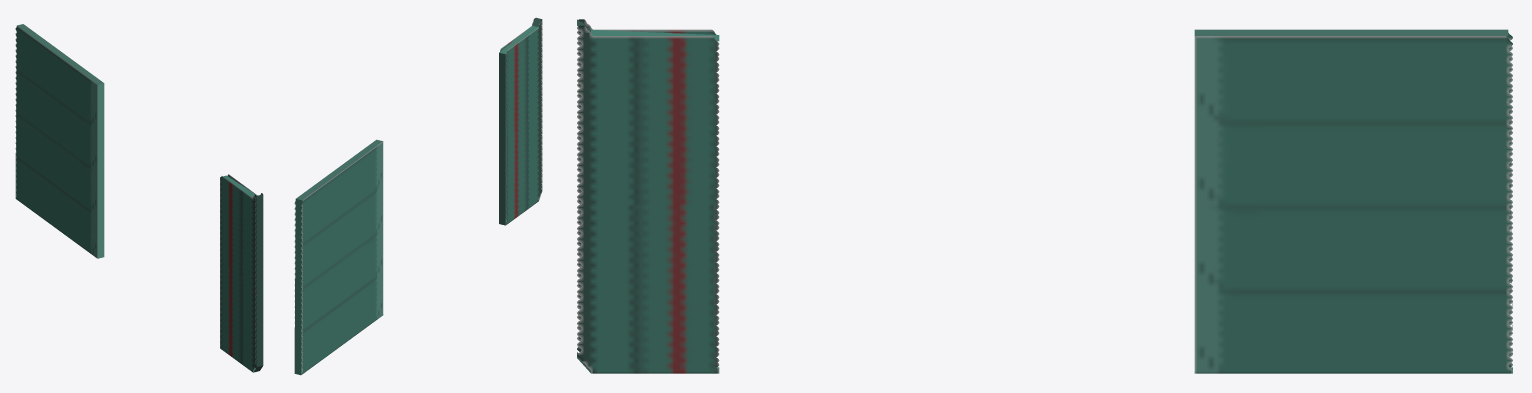
The model's file is pz_native_location_restaurant_diner_01_57_frame.obj.
3 views of the same model, side by side, from view 1: azimuth 30°, elevation 25°; view 2: azimuth 150°, elevation 25°; view 3: azimuth 270°, elevation 25° (orthographic). The views are drawn at different scales.
Visible parts, largest first — view 1: pz_native_location_restaurant_diner_01_57_frame; view 2: pz_native_location_restaurant_diner_01_57_frame; view 3: pz_native_location_restaurant_diner_01_57_frame.
Boxes of the visible parts, x1=… form: pz_native_location_restaurant_diner_01_57_frame: x1=15, y1=24, x2=263, y2=372; pz_native_location_restaurant_diner_01_57_frame: x1=294, y1=17, x2=542, y2=375; pz_native_location_restaurant_diner_01_57_frame: x1=577, y1=19, x2=1512, y2=373.
Bounding box in the file's own units: 0.04 × 1.06 × 2.54.
Materials: 1 (1 with a texture image).
